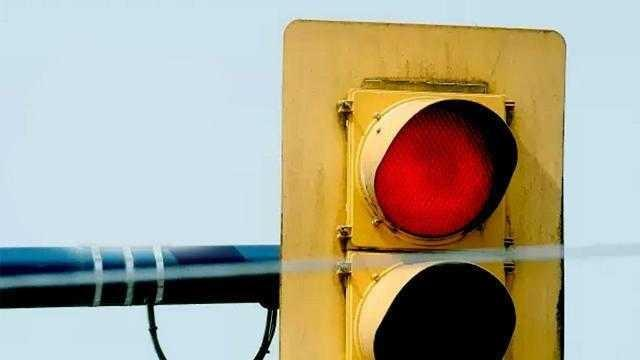red: (354, 84, 519, 246)
